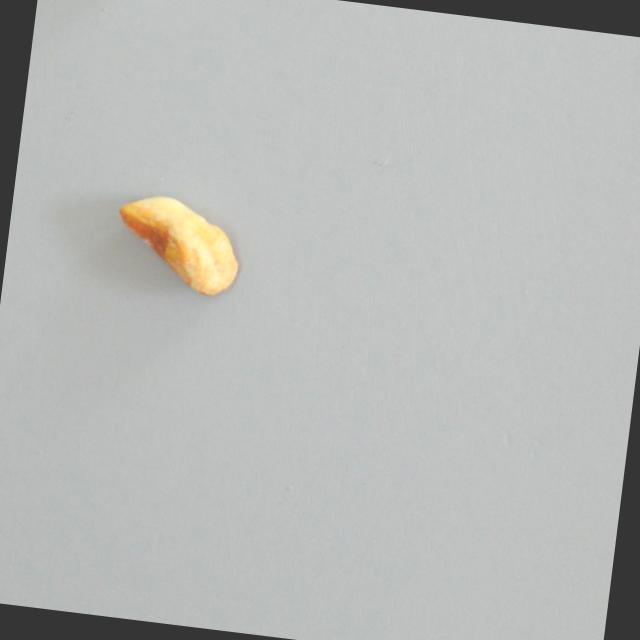dañado: (109, 189, 245, 298)
